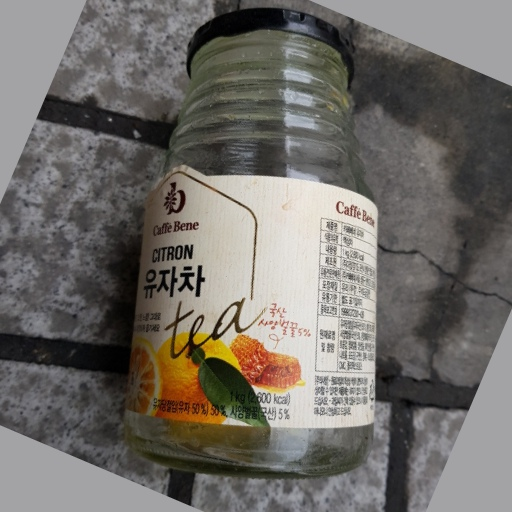Glass_5: (123, 8, 382, 475)
